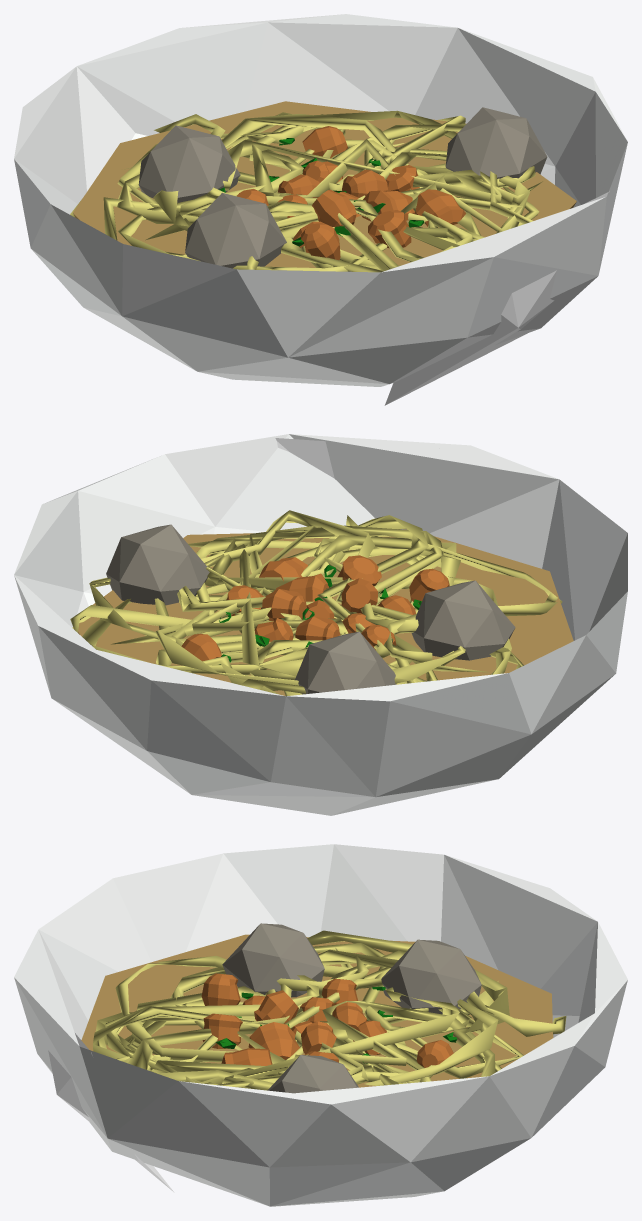
File: mi_ayam.glb
3 views of the same model, one above another, from view 1: azimuth 30°, elevation 25°; view 2: azimuth 150°, elevation 25°; view 3: azimuth 270°, elevation 25° (orthographic). The views are drawn at different scales.
Parts seen in each view (by area): view 1: Sphere.045_28, Sphere.046_29, BezierCurve.018_4, Sphere.050_32, Sphere.049_31, Sphere.048_30, BezierCurve.021_7, bantal_mangkok_ayam_bangkok.jpg.001_0, BezierCurve.020_6, BezierCurve.019_5, BezierCurve.022_8, BezierCurve.015_1 (+11 smaller); view 2: Sphere.045_28, Sphere.046_29, BezierCurve.018_4, BezierCurve.021_7, Sphere.048_30, Sphere.050_32, BezierCurve.019_5, Sphere.049_31, BezierCurve.016_2, BezierCurve.020_6, BezierCurve.015_1, BezierCurve.022_8 (+11 smaller); view 3: Sphere.045_28, BezierCurve.018_4, Sphere.046_29, BezierCurve.021_7, Sphere.049_31, Sphere.050_32, BezierCurve.020_6, BezierCurve.016_2, Sphere.048_30, BezierCurve.019_5, BezierCurve.022_8, BezierCurve.017_3 (+11 smaller).
Boxes of the visible parts, box(x1,y1,x2,y2) form: Sphere.045_28: box(14, 14, 627, 386); Sphere.046_29: box(73, 101, 576, 267); BezierCurve.018_4: box(117, 110, 533, 270); Sphere.050_32: box(185, 193, 286, 268); Sphere.049_31: box(138, 125, 240, 202); Sphere.048_30: box(445, 107, 547, 178); BezierCurve.021_7: box(207, 124, 539, 272); bantal_mangkok_ayam_bangkok.jpg.001_0: box(384, 191, 609, 405); BezierCurve.020_6: box(70, 112, 454, 270); BezierCurve.019_5: box(267, 115, 529, 269); BezierCurve.022_8: box(117, 150, 455, 271); BezierCurve.015_1: box(145, 171, 542, 271); Sphere.045_28: box(14, 434, 627, 815); Sphere.046_29: box(78, 529, 573, 695); BezierCurve.018_4: box(82, 510, 465, 694); BezierCurve.021_7: box(72, 515, 460, 680); Sphere.048_30: box(106, 524, 209, 605); Sphere.050_32: box(411, 580, 515, 660); BezierCurve.019_5: box(70, 525, 443, 633); Sphere.049_31: box(295, 631, 396, 694); BezierCurve.016_2: box(225, 535, 562, 662); BezierCurve.020_6: box(155, 536, 523, 696); BezierCurve.015_1: box(188, 538, 488, 672); BezierCurve.022_8: box(257, 515, 511, 682); Sphere.045_28: box(14, 844, 627, 1206); BezierCurve.018_4: box(124, 949, 509, 1090); Sphere.046_29: box(81, 934, 553, 1087); BezierCurve.021_7: box(93, 978, 471, 1084); Sphere.049_31: box(381, 939, 481, 1014); Sphere.050_32: box(222, 923, 324, 997); BezierCurve.020_6: box(127, 930, 523, 1085); BezierCurve.016_2: box(115, 955, 368, 1062); Sphere.048_30: box(267, 1055, 358, 1093); BezierCurve.019_5: box(104, 975, 398, 1085); BezierCurve.022_8: box(116, 943, 443, 1062); BezierCurve.017_3: box(293, 950, 566, 1083).
Bounding box in the file's own units: 2.06 × 0.7242 × 2.08.
